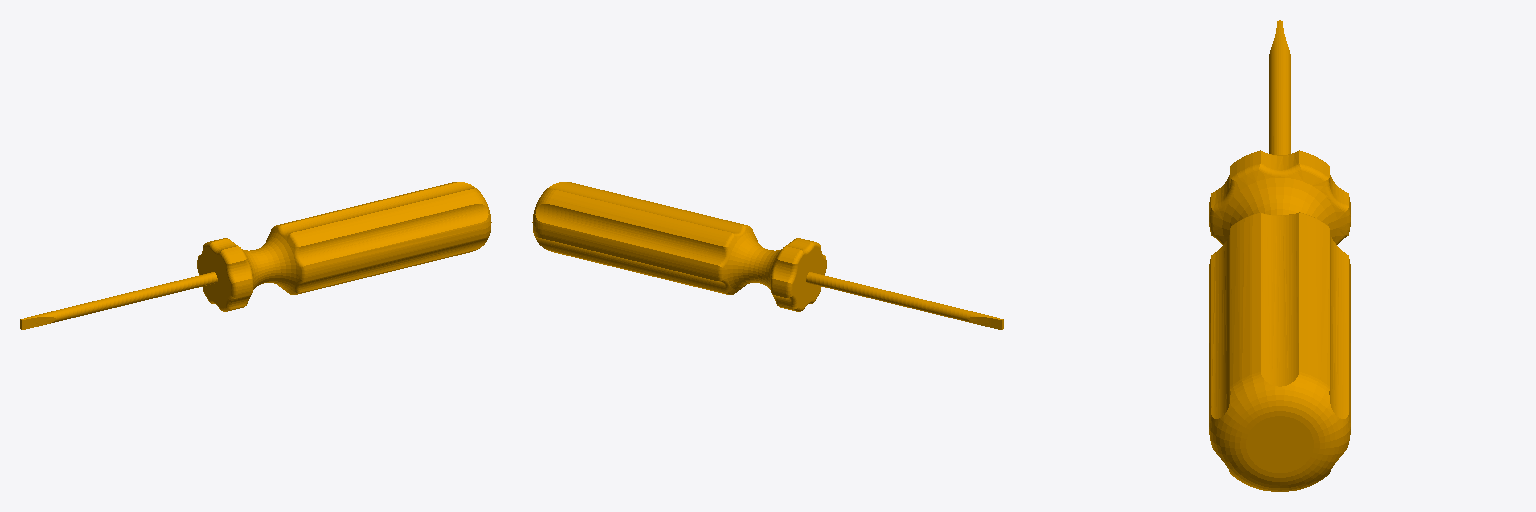
URDF robot description (screwdriver_1_L0.72_T0.67):
<?xml version="1.0" encoding="utf-8"?>
<robot name="screwdriver_1_L0.72_T0.67">
  <link name="screwdriver_1_L0.72_T0.67Link">
    <contact>
      <lateral_friction value="1"/>
    </contact>
    <inertial>
      <origin rpy="0 0 0" xyz="0 0 0"/>
      <mass value="0.0"/>
      <inertia ixx="0" ixy="0" ixz="0" iyy="0" iyz="0" izz="0"/>
    </inertial>
    <visual>
      <origin rpy="0 0 0" xyz="0 0 0"/>
      <geometry>
        <mesh filename="generated_stl/screwdriver/screwdriver_1/screwdriver_1_L0.72_T0.67/screwdriver_1_L0.72_T0.67.stl" scale="0.01 0.01 0.01"/>
      </geometry>
    </visual>
    <collision>
      <origin rpy="0 0 0" xyz="0 0 0"/>
      <geometry>
        <mesh filename="generated_stl/screwdriver/screwdriver_1/screwdriver_1_L0.72_T0.67/screwdriver_1_L0.72_T0.67.stl" scale="0.01 0.01 0.01"/>
      </geometry>
    </collision>
  </link>
</robot>

--- What the picture shows (computed from the rendered views, not written in the file) ---
Views: 3 orthographic renders of the robot side by side, from view 1: azimuth 30°, elevation 25°; view 2: azimuth 150°, elevation 25°; view 3: azimuth 270°, elevation 25°.
Robot: screwdriver_1_L0.72_T0.67 — 1 links, 0 joints (none); root link screwdriver_1_L0.72_T0.67Link; default pose: all joints at 0.
Links seen in each view (by area): view 1: screwdriver_1_L0.72_T0.67Link; view 2: screwdriver_1_L0.72_T0.67Link; view 3: screwdriver_1_L0.72_T0.67Link.
Boxes of the visible links, x1,y1,x2,y2 form: screwdriver_1_L0.72_T0.67Link: (20, 182, 491, 329); screwdriver_1_L0.72_T0.67Link: (532, 182, 1003, 329); screwdriver_1_L0.72_T0.67Link: (1209, 20, 1350, 491).
Bounding box of the posed robot: 0.0577 × 0.0083 × 0.0074 m (x, y, z).
1 mesh visuals loaded from 1 distinct referenced files (1 binary STL).